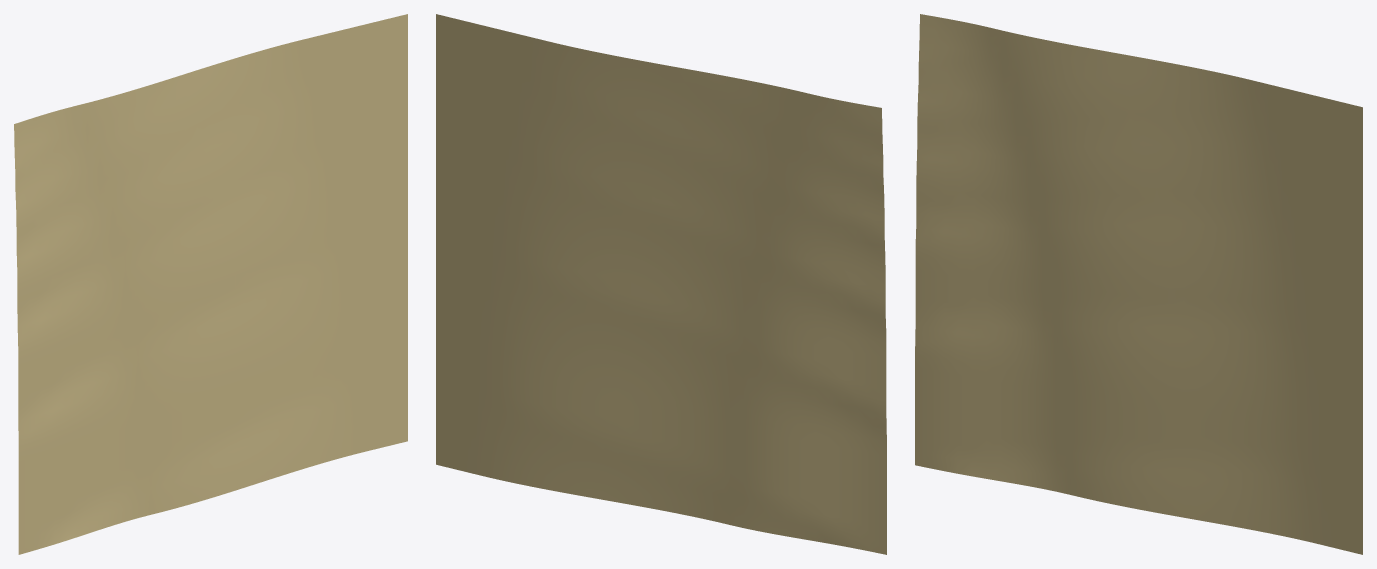
The model's file is island_terrain_27_08.obj.
3 renders of one model, left to right at view 1: azimuth 30°, elevation 25°; view 2: azimuth 150°, elevation 25°; view 3: azimuth 330°, elevation 25°, orthographic. The views are drawn at different scales.
Parts seen in each view (by area): view 1: island_terrain_27_08; view 2: island_terrain_27_08; view 3: island_terrain_27_08.
Boxes of the visible parts, x1,y1,x2,y2 form: island_terrain_27_08: (14, 14, 407, 554); island_terrain_27_08: (436, 14, 886, 554); island_terrain_27_08: (915, 14, 1362, 554).
Bounding box in the file's own units: 256 × 256 × 20.8.
